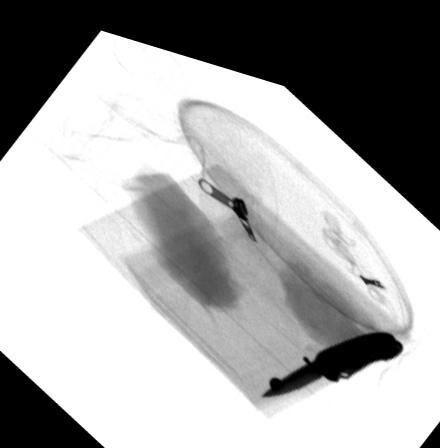Knife: (260, 307, 404, 384)
